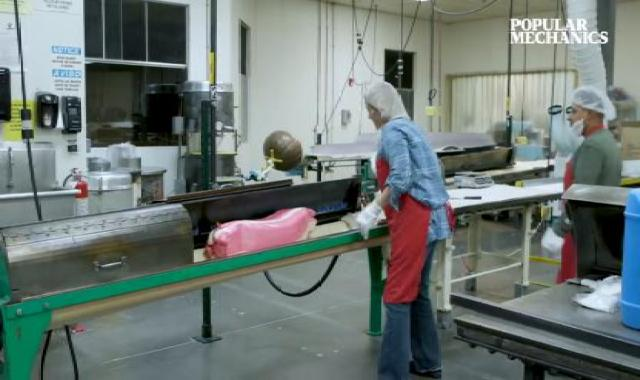hairnet: (350, 74, 408, 128), (556, 85, 626, 125)
